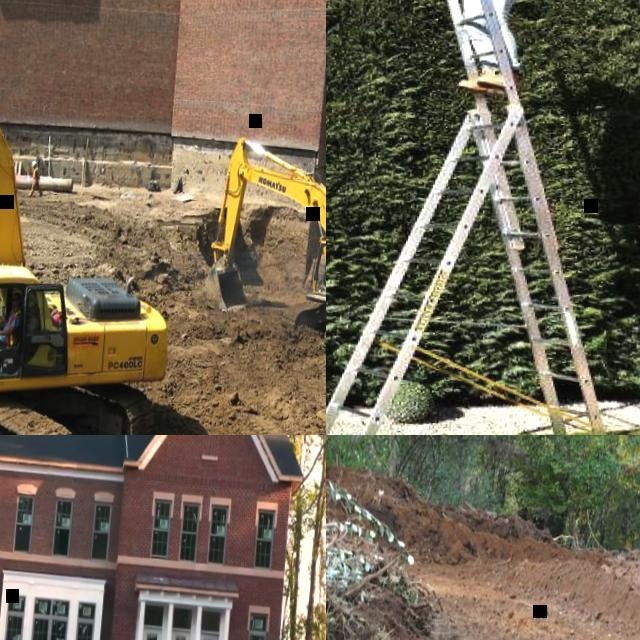Hardhat: (31, 160, 37, 167)
NO-Hardhat: (13, 292, 21, 297)
NO-Mask: (12, 300, 19, 307)
Person: (418, 0, 542, 92), (0, 288, 22, 374), (28, 159, 45, 198)
Safety Vest: (2, 308, 21, 346), (32, 166, 39, 179)
machinery: (0, 0, 195, 435), (201, 130, 326, 363)
